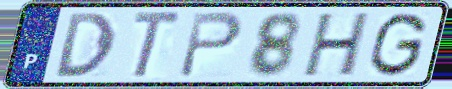8: (246, 10, 304, 80)
D: (54, 11, 117, 80)
G: (366, 10, 431, 79)
H: (299, 10, 374, 80)
P: (175, 10, 245, 80)
T: (130, 9, 185, 82)
